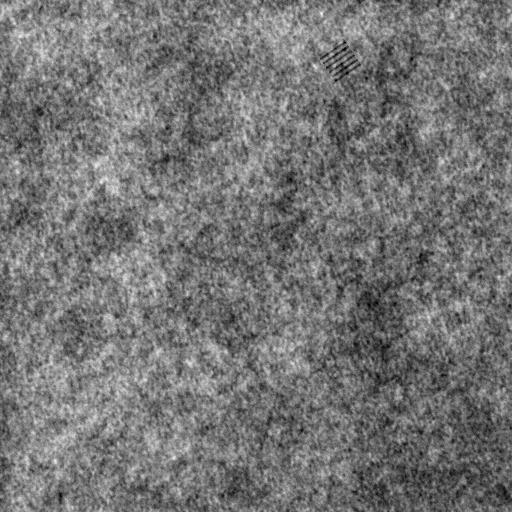DefectTypeB: (320, 42, 363, 80)
